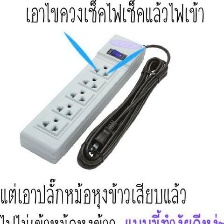three_eye_plug: (16, 27, 152, 166)
